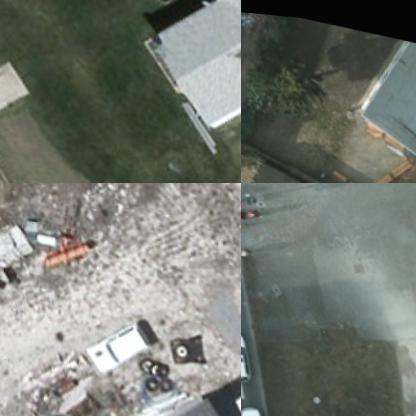car: (75, 300, 160, 386), (241, 329, 256, 384), (241, 400, 269, 415)
